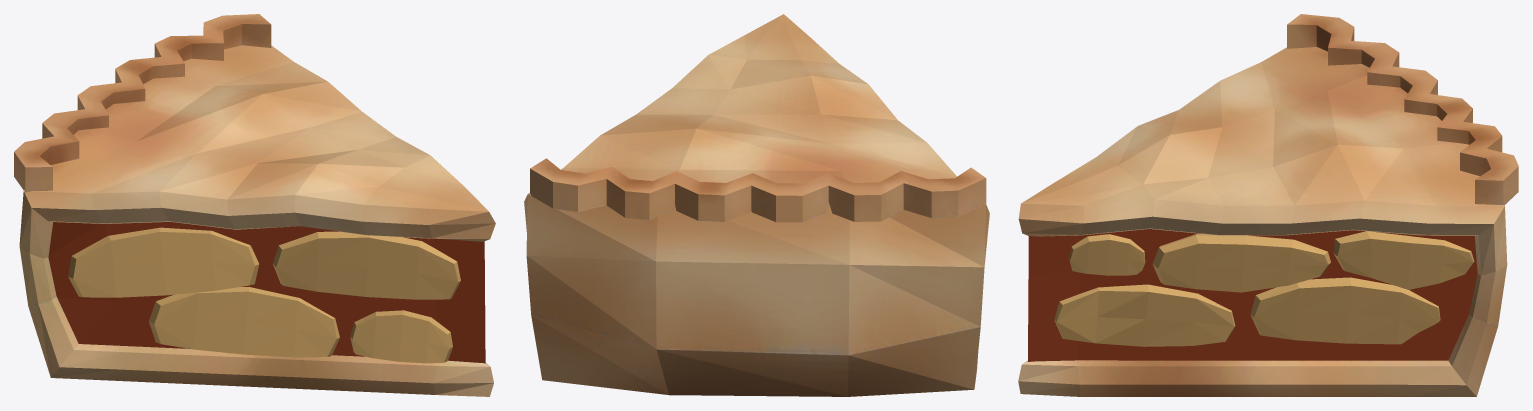
File: fUCvg9N-5ta.glb
The picture shows the model from 3 angles, left to right: view 1: azimuth 30°, elevation 25°; view 2: azimuth 150°, elevation 25°; view 3: azimuth 270°, elevation 25°; orthographic projection. The views are drawn at different scales.
Parts seen in each view (by area): view 1: Node; view 2: Node; view 3: Node.
Part boxes in pixels (bbox=[...]): Node: bbox=[14, 14, 495, 396]; Node: bbox=[524, 14, 989, 396]; Node: bbox=[1018, 14, 1518, 396].
Size of the model in its own units: 1.72 by 1 by 2.1.
Materials: 3 (1 with a texture image).
